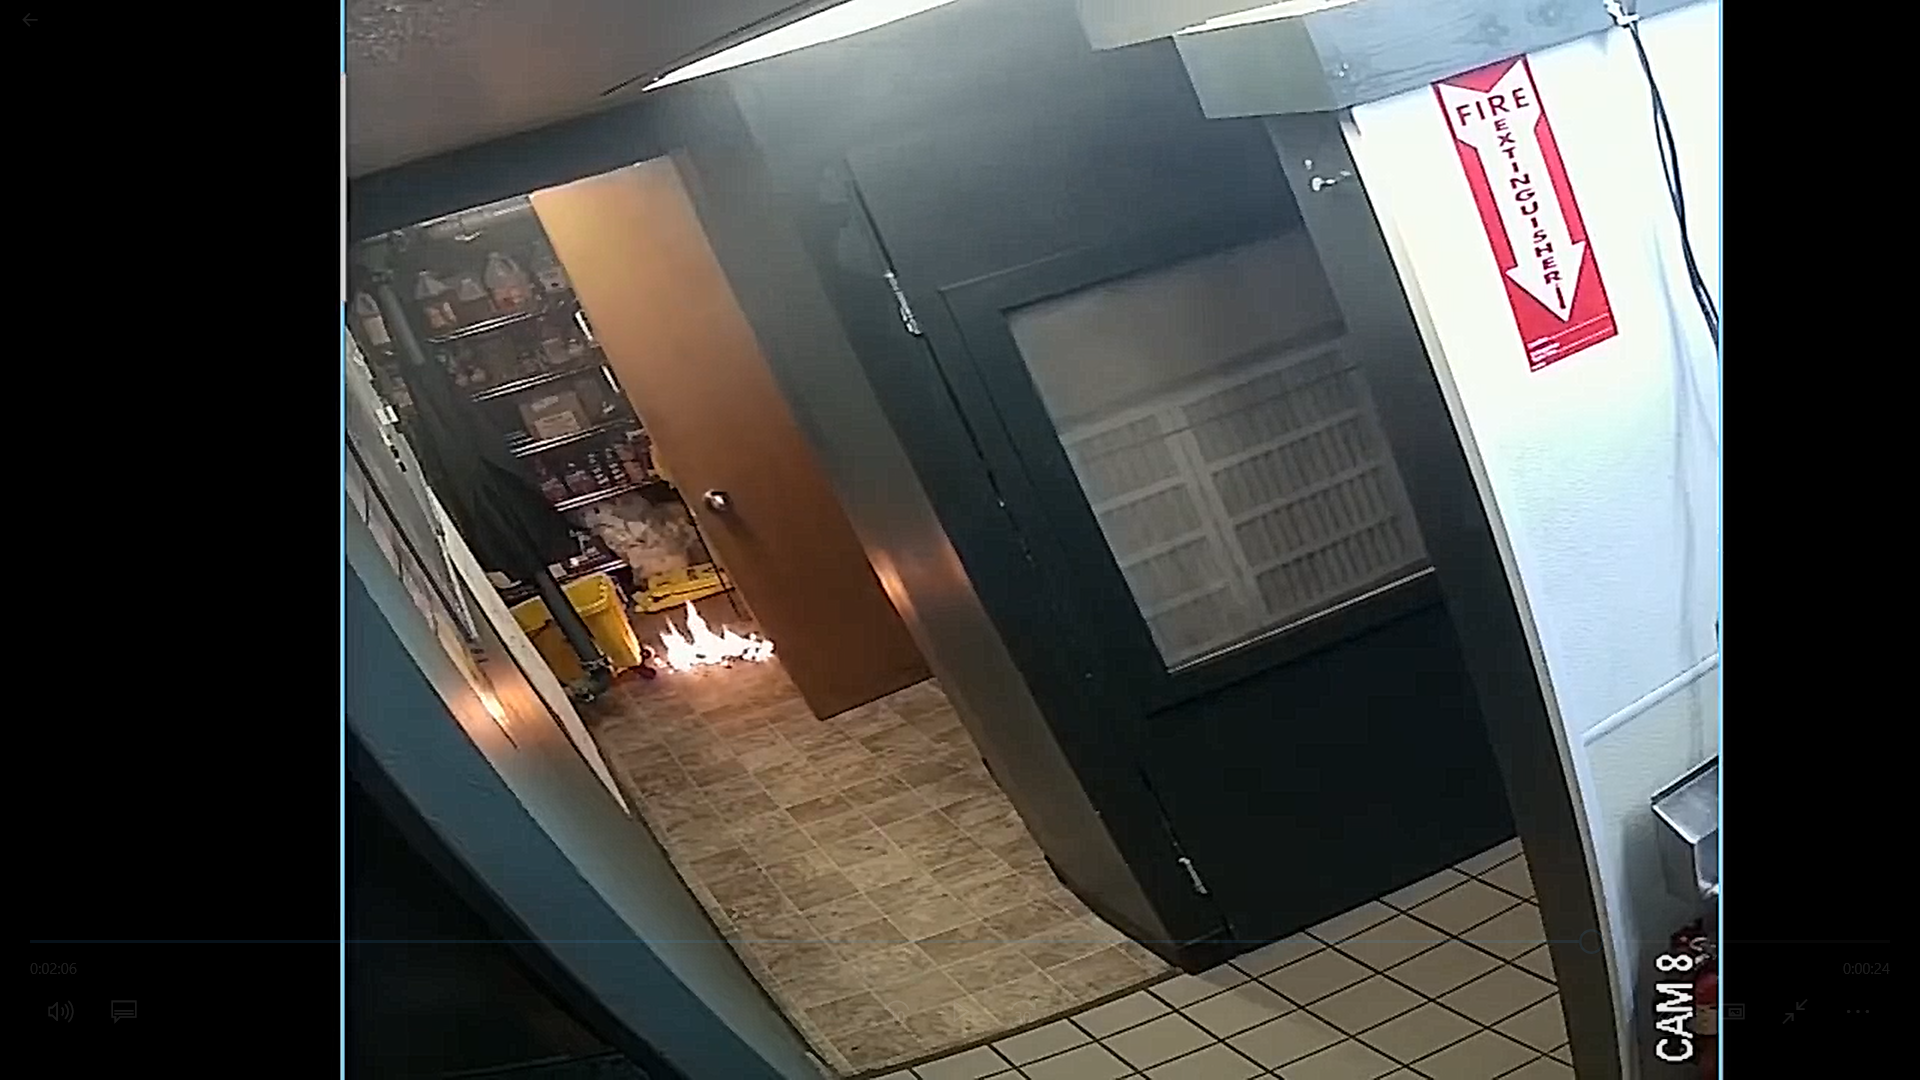fire: (646, 599, 789, 684)
